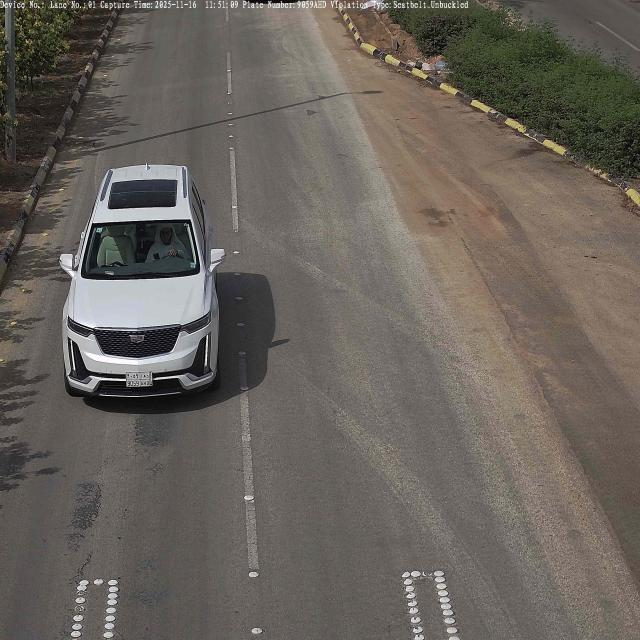person_without_seatbelt: (148, 224, 185, 262)
